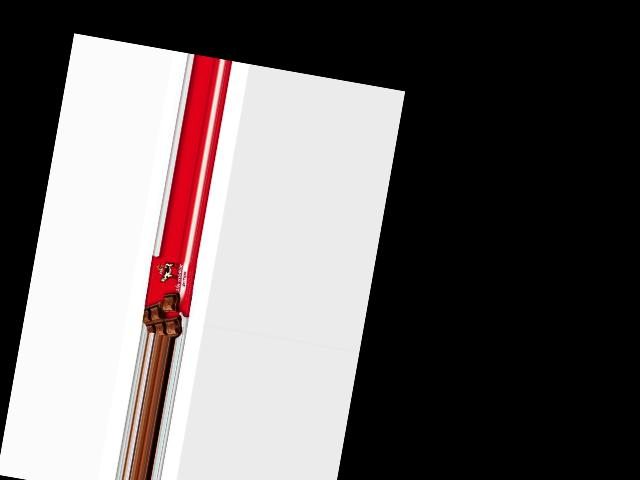chocolate: (140, 254, 199, 339)
